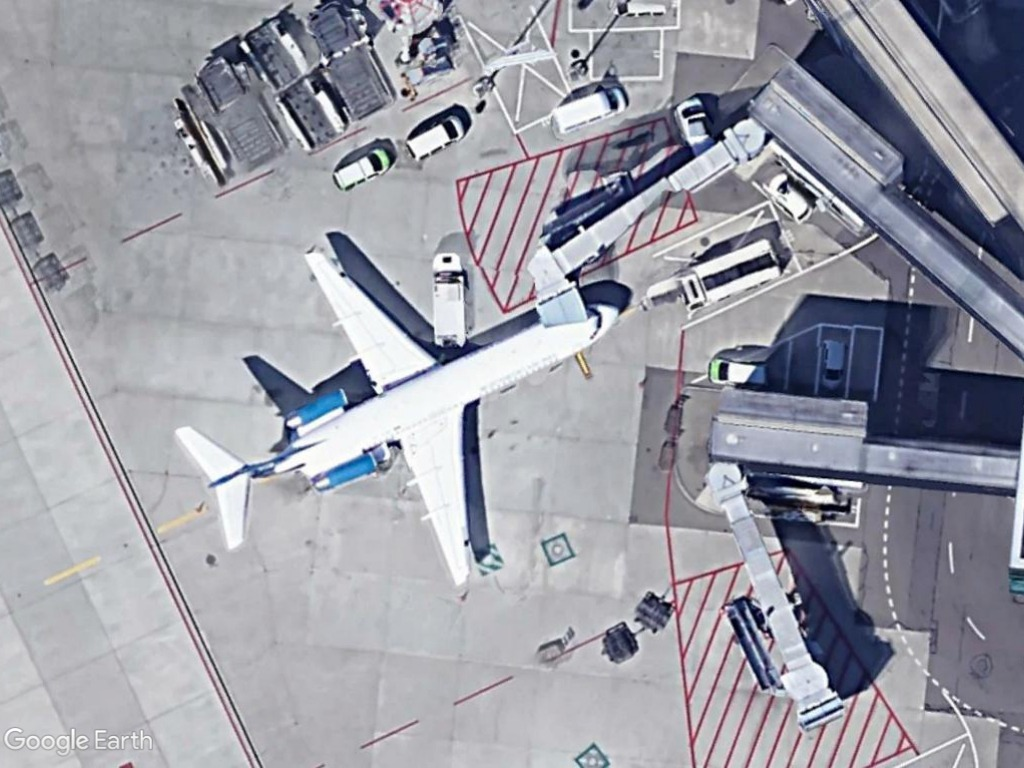chartered: (165, 241, 621, 594)
truck: (426, 249, 473, 352)
van: (546, 85, 629, 137), (403, 112, 468, 163), (331, 147, 392, 193)
